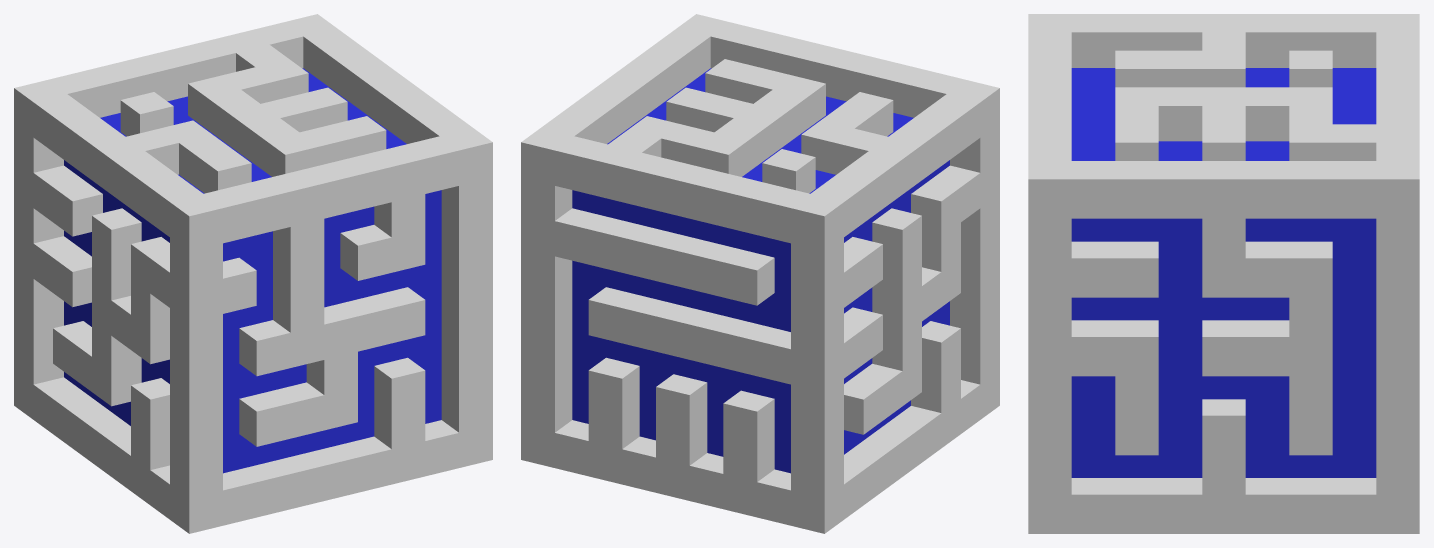
The model's file is MindCube.fbx.
The picture shows the model from 3 angles, left to right: view 1: azimuth 30°, elevation 25°; view 2: azimuth 150°, elevation 25°; view 3: azimuth 270°, elevation 25°; orthographic projection. The views are drawn at different scales.
Visible parts, largest first — view 1: Cube; view 2: Cube; view 3: Cube.
Part boxes in pixels (box(x1,y1,x2,y2)): Cube: box(14, 14, 492, 533); Cube: box(521, 14, 999, 533); Cube: box(1028, 14, 1419, 533).
Size of the model in its own units: 200 by 200 by 200.
